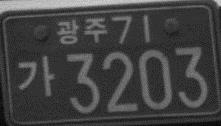0: (137, 48, 174, 110)
1: (141, 13, 153, 43)
2: (102, 49, 138, 114)
3: (65, 51, 101, 115), (172, 46, 208, 107)
7: (110, 15, 132, 43)
가: (15, 54, 56, 98)
광주_O: (57, 16, 108, 45)
